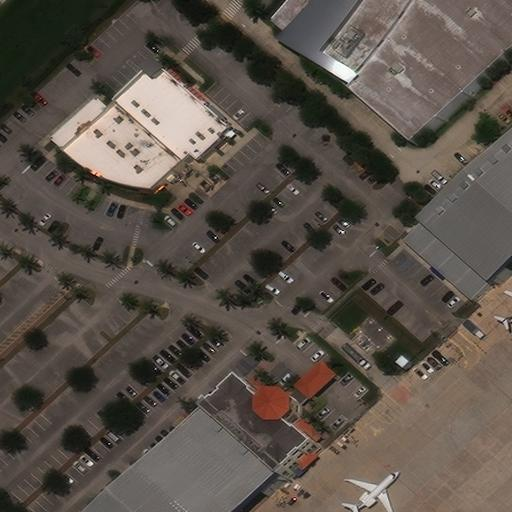Medium Civil Transport: (345, 472, 399, 511)
